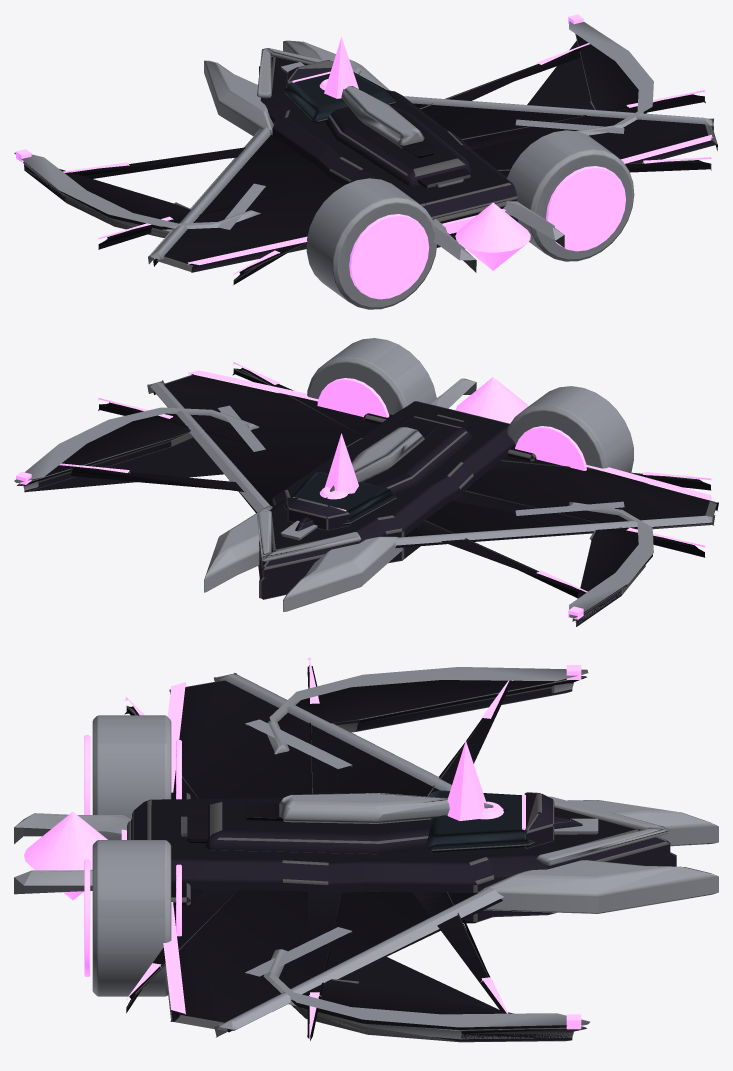
The model's file is hero-spectre-kit.glb.
The picture shows the model from 3 angles, top to bottom: view 1: azimuth 30°, elevation 25°; view 2: azimuth 150°, elevation 25°; view 3: azimuth 270°, elevation 25°; orthographic projection. The views are drawn at different scales.
Visible parts, largest first — view 1: hero_spectre_wings_a, hero_spectre_engines_b, hero_spectre_wings_b, hero_spectre_hull_a, hero_spectre_hull_b, hero_spectre_wings_c, hero_spectre_hull_c, hero_spectre_engines_c, hero_spectre_cockpit_c, hero_spectre_cockpit_b, hero_spectre_engines_a, hero_spectre_cockpit_a; view 2: hero_spectre_wings_a, hero_spectre_engines_b, hero_spectre_wings_b, hero_spectre_hull_b, hero_spectre_hull_a, hero_spectre_wings_c, hero_spectre_hull_c, hero_spectre_engines_c, hero_spectre_cockpit_c, hero_spectre_cockpit_a, hero_spectre_cockpit_b; view 3: hero_spectre_wings_a, hero_spectre_wings_b, hero_spectre_hull_b, hero_spectre_engines_b, hero_spectre_hull_a, hero_spectre_hull_c, hero_spectre_wings_c, hero_spectre_engines_c, hero_spectre_cockpit_c, hero_spectre_cockpit_b, hero_spectre_cockpit_a.
Boxes of the visible parts, x1,y1,x2,y2 form: hero_spectre_wings_a: [148, 96, 717, 272]; hero_spectre_engines_b: [306, 130, 634, 309]; hero_spectre_wings_b: [14, 14, 653, 237]; hero_spectre_hull_a: [257, 48, 518, 247]; hero_spectre_hull_b: [204, 40, 517, 216]; hero_spectre_wings_c: [63, 43, 711, 284]; hero_spectre_hull_c: [259, 66, 472, 185]; hero_spectre_engines_c: [433, 201, 564, 272]; hero_spectre_cockpit_c: [284, 71, 396, 123]; hero_spectre_cockpit_b: [324, 37, 358, 98]; hero_spectre_engines_a: [432, 200, 510, 236]; hero_spectre_cockpit_a: [286, 60, 333, 95]; hero_spectre_wings_a: [147, 370, 718, 548]; hero_spectre_engines_b: [307, 338, 633, 472]; hero_spectre_wings_b: [14, 407, 653, 626]; hero_spectre_hull_b: [204, 401, 514, 611]; hero_spectre_hull_a: [257, 403, 501, 599]; hero_spectre_wings_c: [59, 362, 711, 598]; hero_spectre_hull_c: [259, 416, 472, 598]; hero_spectre_engines_c: [430, 377, 528, 423]; hero_spectre_cockpit_c: [284, 472, 396, 525]; hero_spectre_cockpit_a: [286, 487, 350, 530]; hero_spectre_cockpit_b: [325, 433, 358, 493]; hero_spectre_wings_a: [163, 673, 503, 1037]; hero_spectre_wings_b: [263, 665, 589, 1042]; hero_spectre_hull_b: [134, 796, 718, 923]; hero_spectre_engines_b: [84, 715, 190, 996]; hero_spectre_hull_a: [132, 796, 670, 917]; hero_spectre_hull_c: [205, 793, 676, 891]; hero_spectre_wings_c: [124, 657, 512, 1040]; hero_spectre_engines_c: [14, 812, 130, 900]; hero_spectre_cockpit_c: [426, 790, 534, 853]; hero_spectre_cockpit_b: [447, 740, 486, 820]; hero_spectre_cockpit_a: [480, 792, 554, 848].
Size of the model in its own units: 1.86 by 0.4194 by 1.44.
